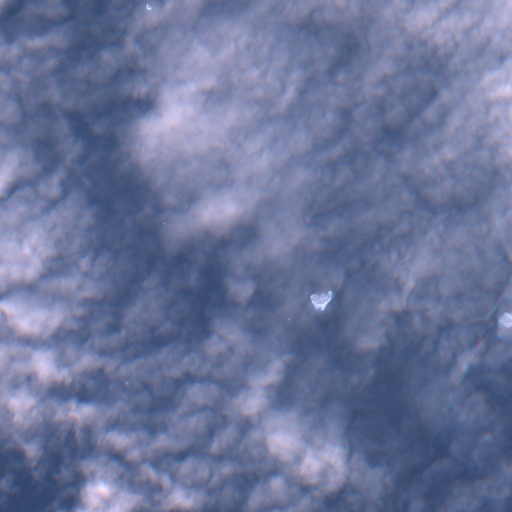Iceberg: (310, 290, 332, 310), (502, 313, 511, 327), (146, 4, 151, 9), (288, 318, 290, 320), (163, 222, 164, 224), (125, 382, 127, 383)
